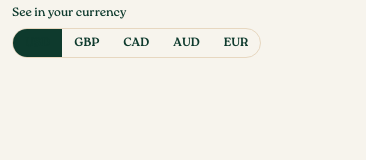
Test: CurrencyToggle › shows conversion disclaimer for non-USD currencies
Check: the text "Approximate conversions" is not shown
// Disclaimer appears for non-USD
What coordinates should you click on to do the following:
click the button "GBP"
I would click on:
 (87, 43)
Its box is left=62, top=29, right=111, bottom=57.
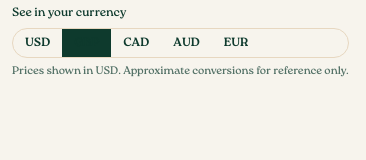
Check: the text "Approximate conversions" is shown, box left=12, top=66, right=349, bottom=77
